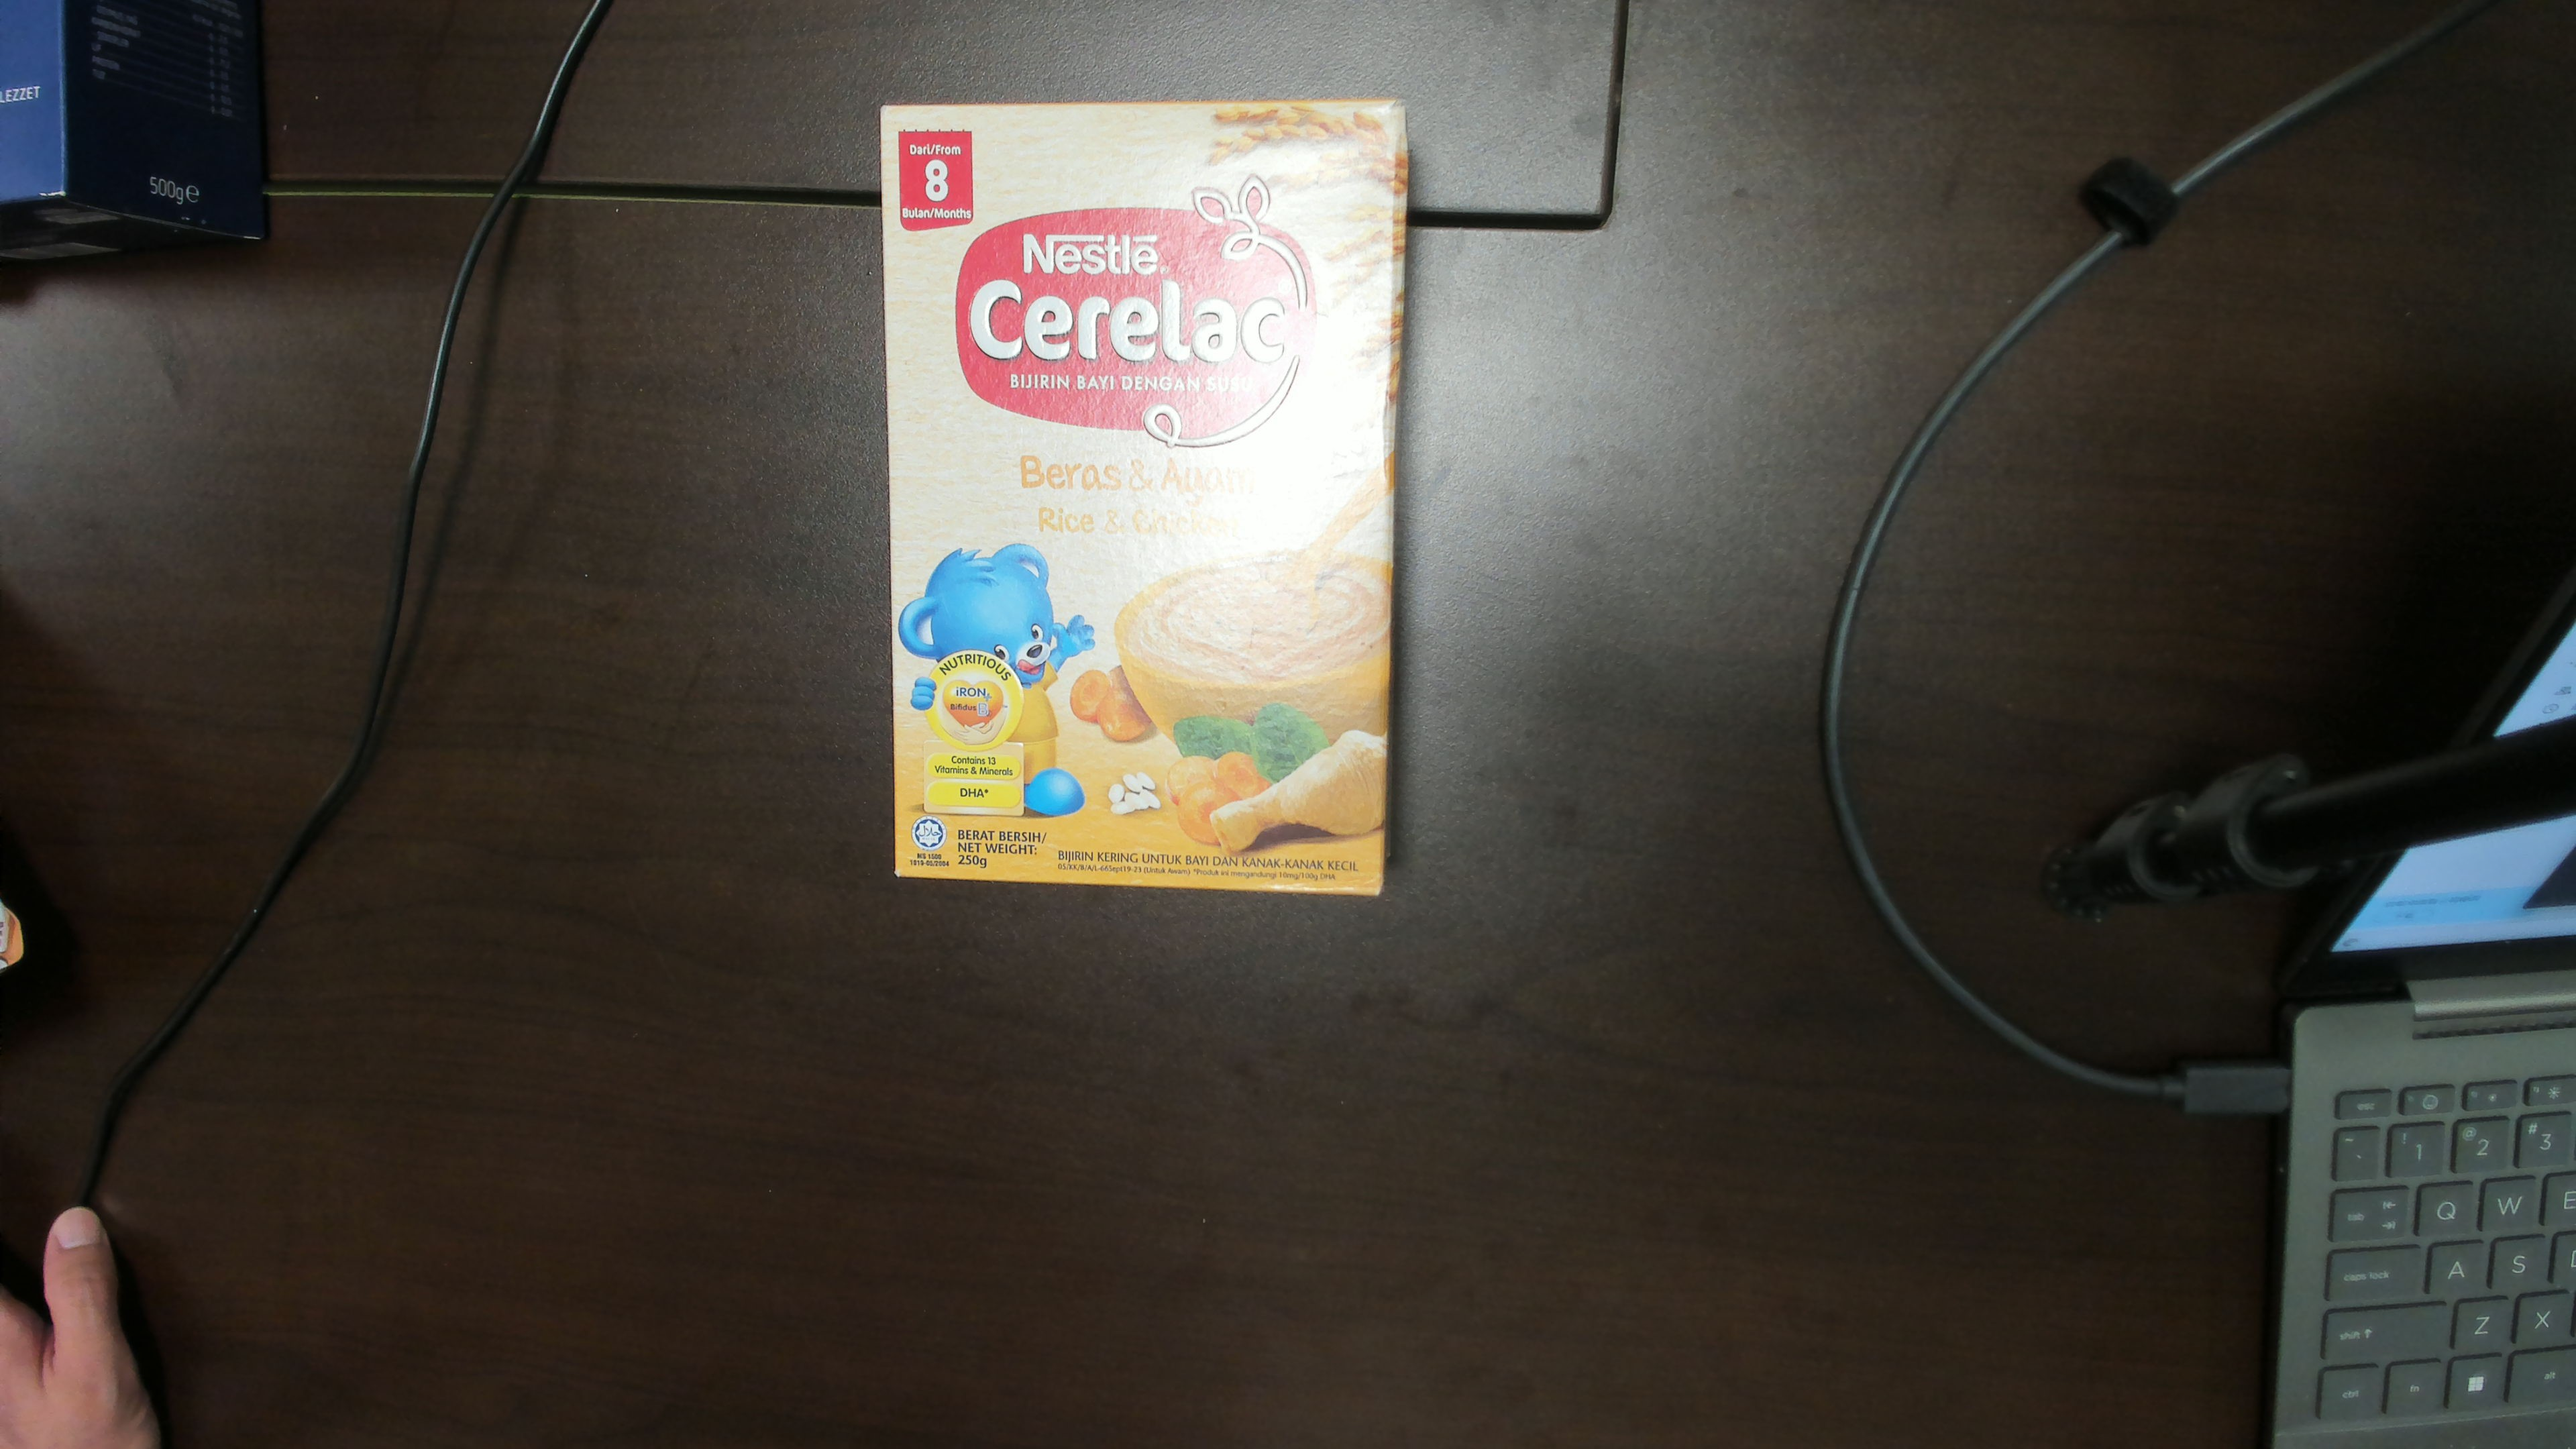Babyfood_200-299g_Halal_NonHealthy: (897, 126, 1375, 881)
